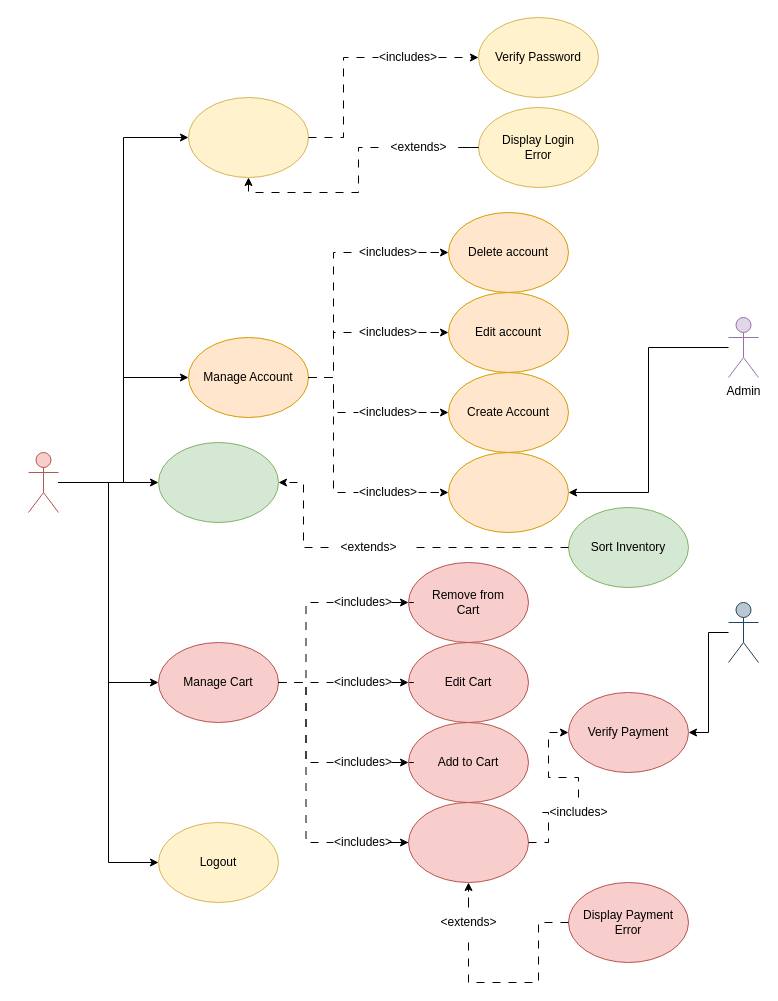
Some shapes in this 778 by 1001 pixel diagram are drawn without their labels. The box of each missing label's shape, as (x1, y1, x2, y2) in pixels:
Bank: (728, 602, 758, 662)
Checkout: (408, 802, 528, 882)
Customer: (28, 452, 58, 512)
Login: (188, 96, 308, 178)
Unsuspend account (request): (448, 452, 568, 532)
View Inventory: (158, 442, 278, 522)
